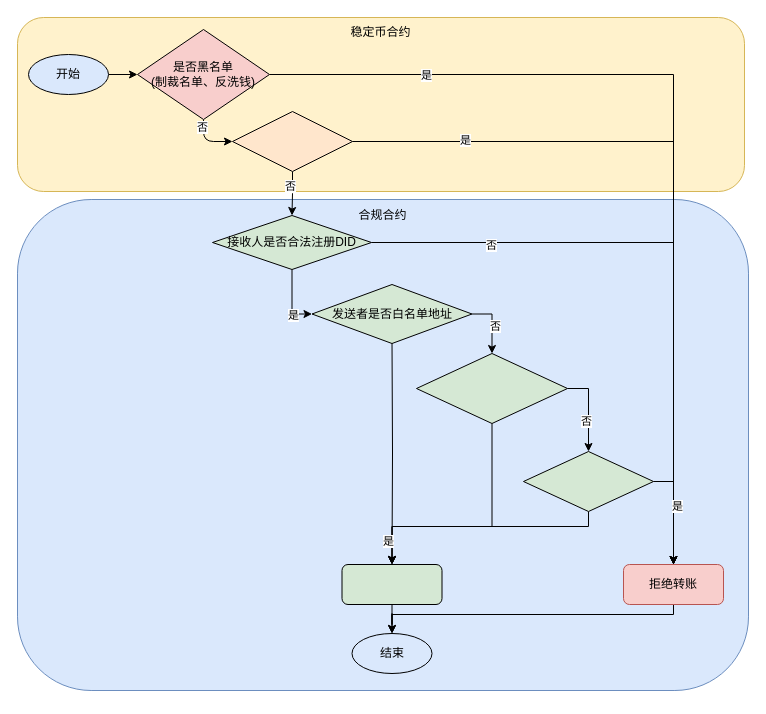
This 766x714 diagram has some shape labels left out. Each missing label, with the centre of its shape:
"是否低于24小时 累计限额" belongs at (588,481).
"是否司法冻结" belongs at (292,141).
"是否审核通过的交易请求" belongs at (492,388).
"转账通过" belongs at (391,584).
